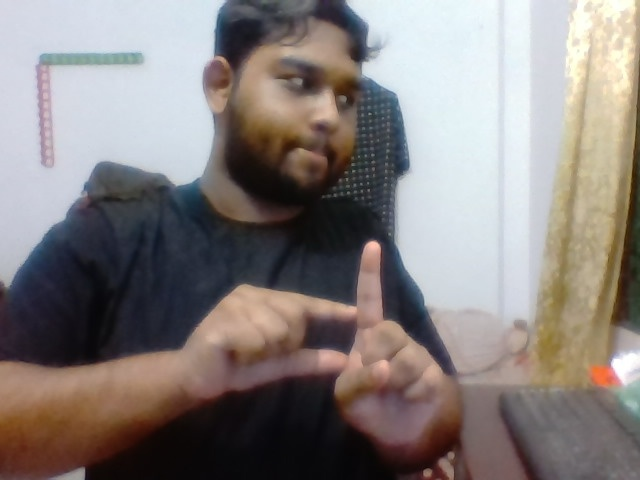D: (222, 223, 447, 426)
